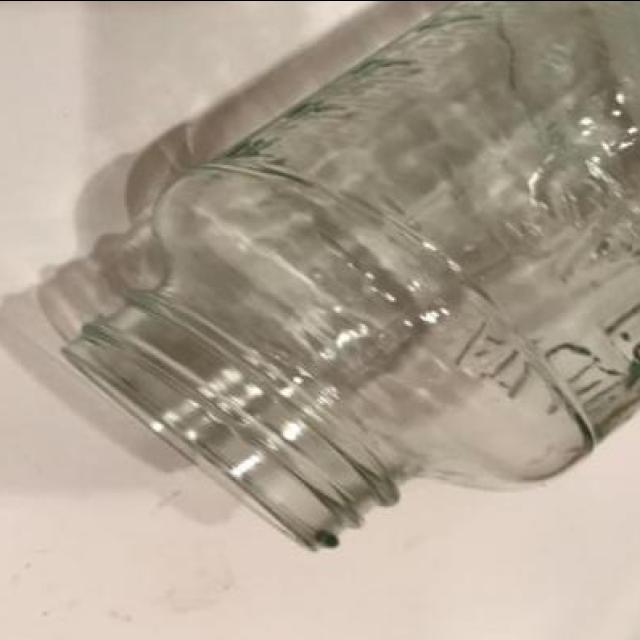kaca: (61, 0, 640, 555)
